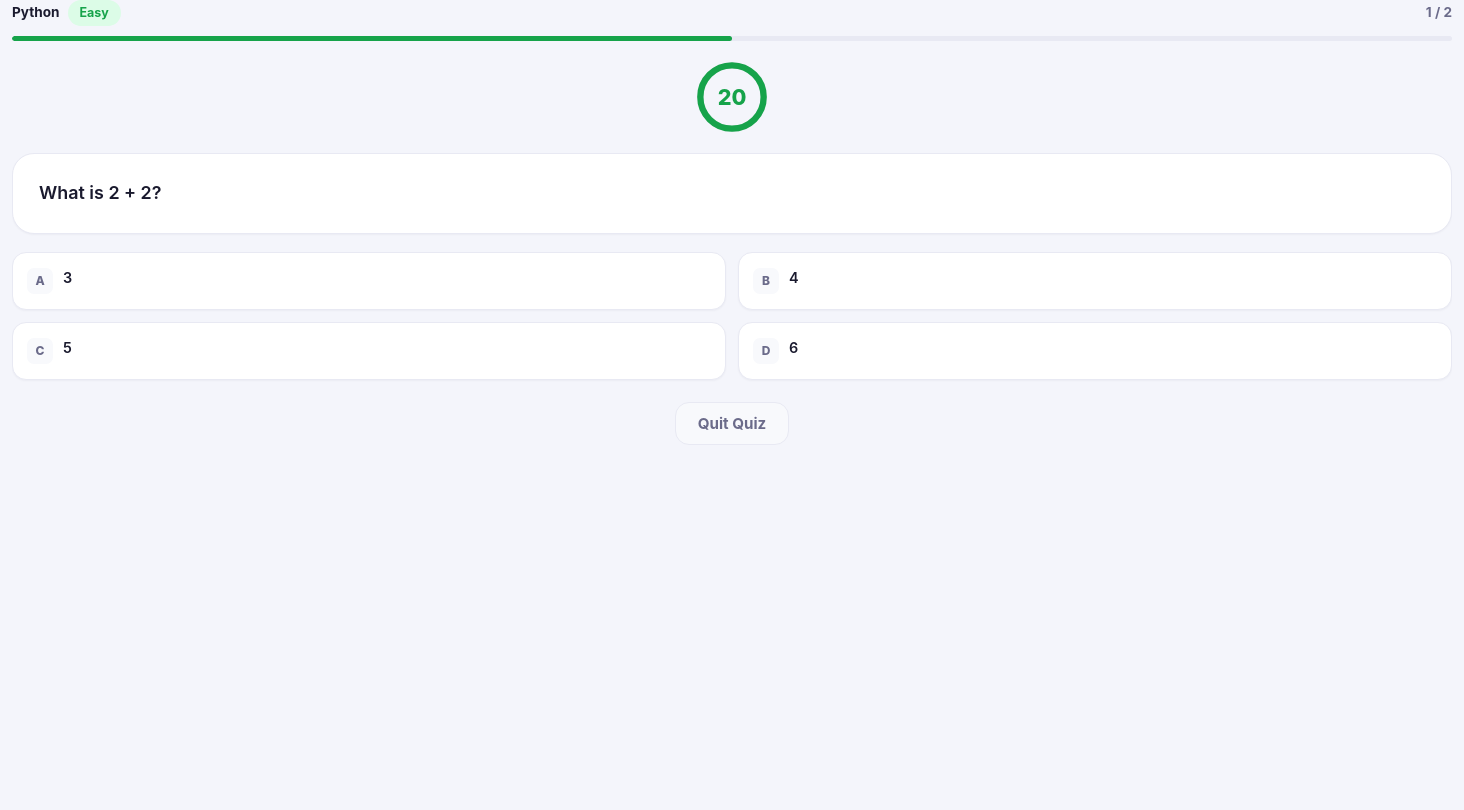
Test: Quiz › shows the correct answer when the wrong option is picked
This screenshot has width=1464, height=810.
Click the text "3": point(68, 278) [63, 268, 72, 288]
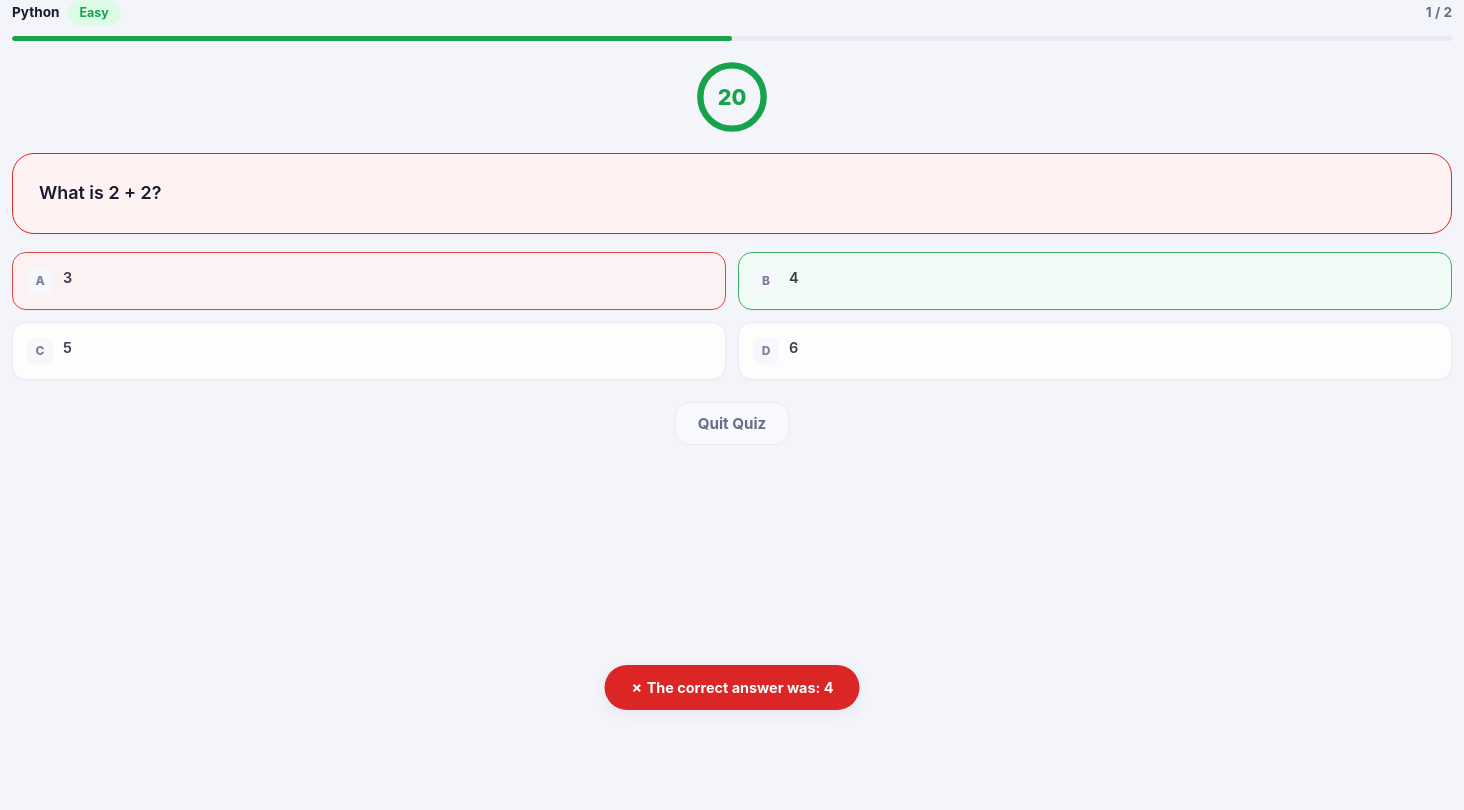
Expected: the text "✗ The correct answer was: 4" is shown, [604, 665, 860, 710]
